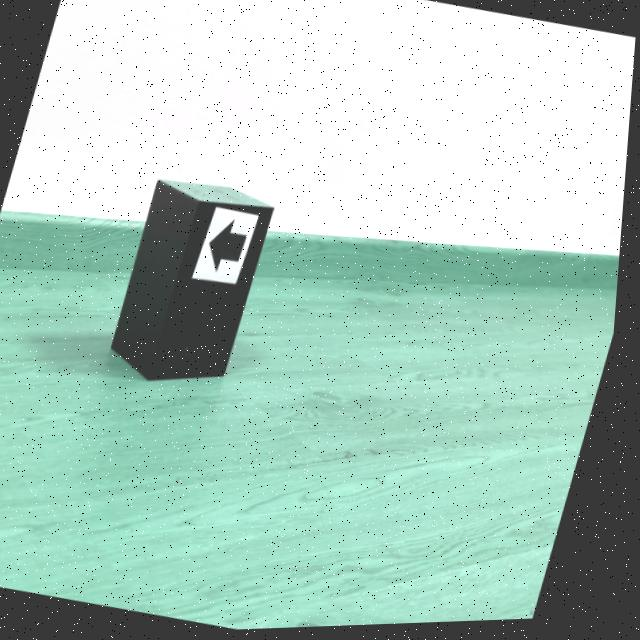LEFT: (213, 221, 250, 273)
